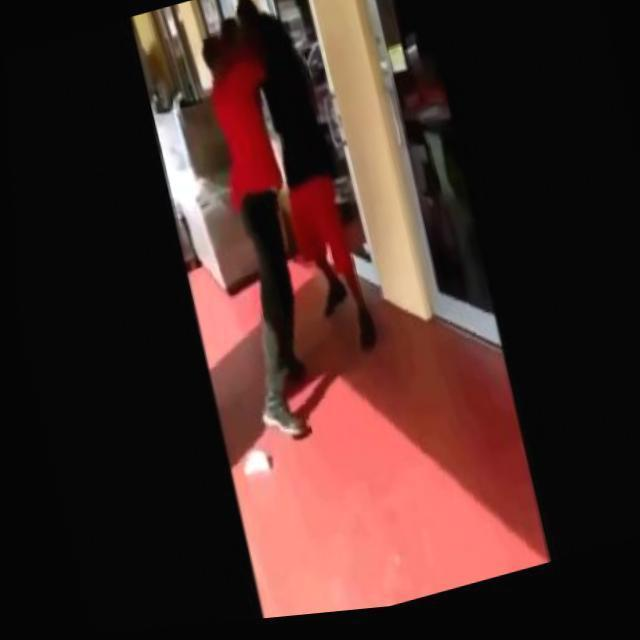fight: (163, 0, 400, 459)
